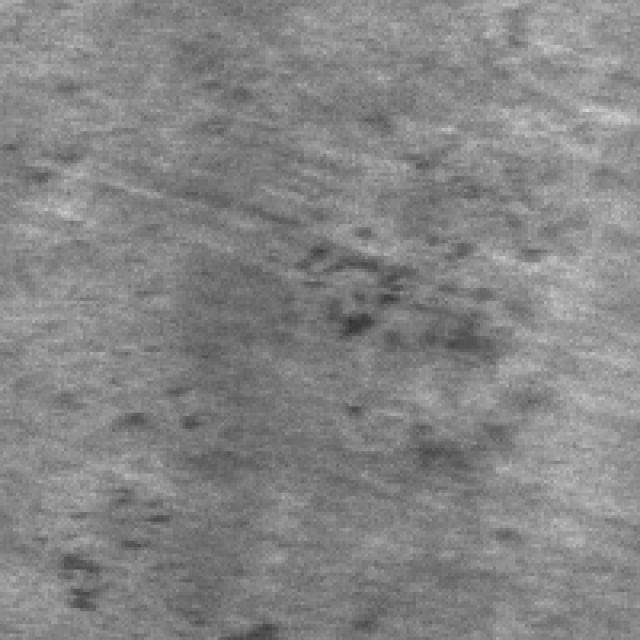rolled-in_scale: (294, 163, 566, 442), (64, 387, 211, 621)
